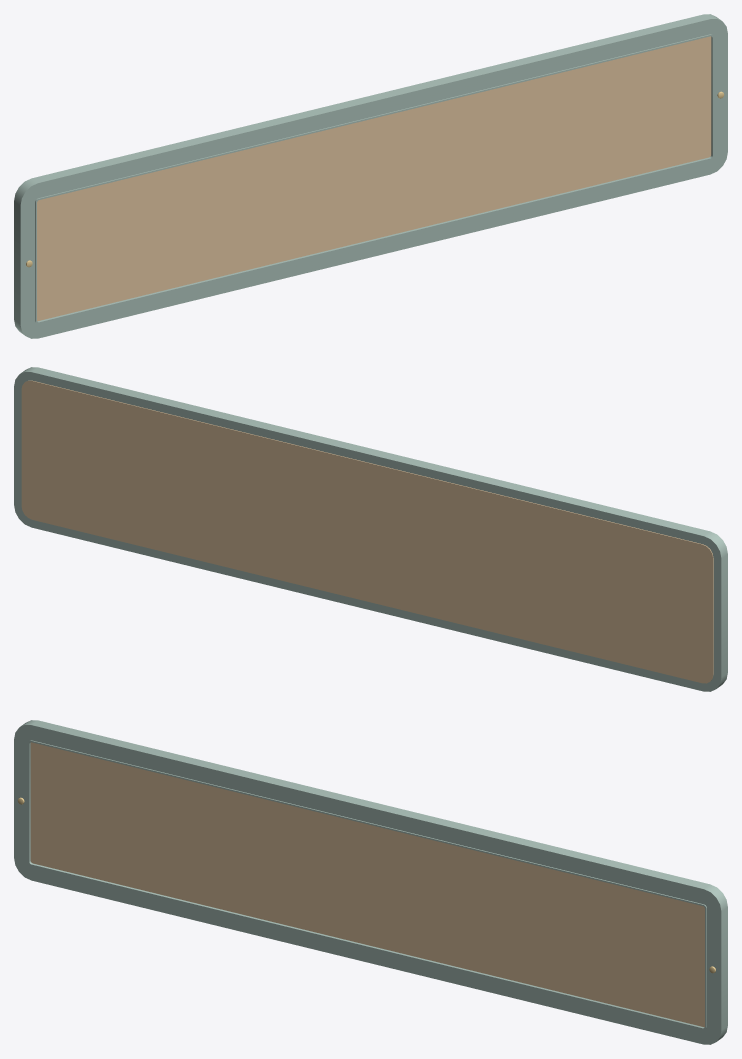
The model's file is sign_section.glb.
3 renders of one model, top to bottom at view 1: azimuth 30°, elevation 25°; view 2: azimuth 150°, elevation 25°; view 3: azimuth 330°, elevation 25°, orthographic.
Visible parts, largest first — view 1: sign_section; view 2: sign_section; view 3: sign_section.
Part boxes in pixels (box(x1,y1,x2,y2)): sign_section: box(14, 14, 727, 338); sign_section: box(14, 367, 727, 691); sign_section: box(14, 720, 727, 1044).
Size of the model in its own units: 2 by 0.42 by 0.041.
